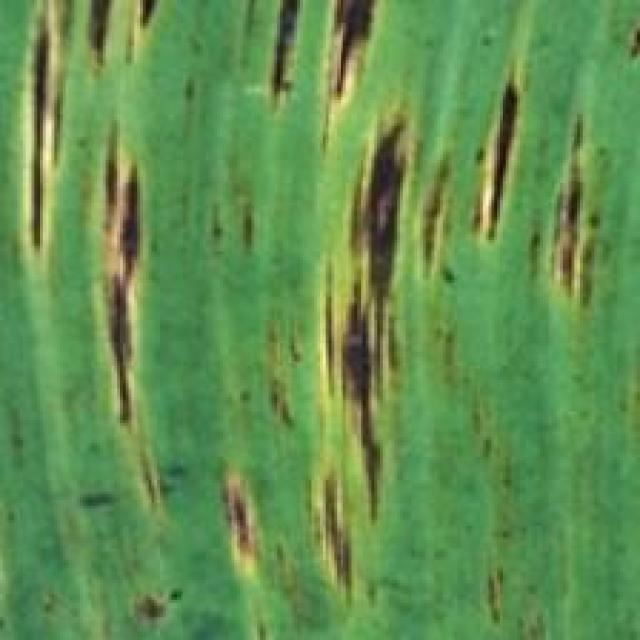Early_leaf_spot: (268, 71, 431, 583), (62, 109, 187, 503), (186, 417, 374, 640), (187, 241, 316, 442), (524, 78, 615, 359), (11, 487, 190, 628), (212, 0, 392, 137), (173, 110, 284, 288), (384, 94, 462, 321), (4, 0, 70, 239), (455, 30, 515, 273), (470, 558, 561, 634), (81, 0, 159, 88), (606, 0, 640, 95)
